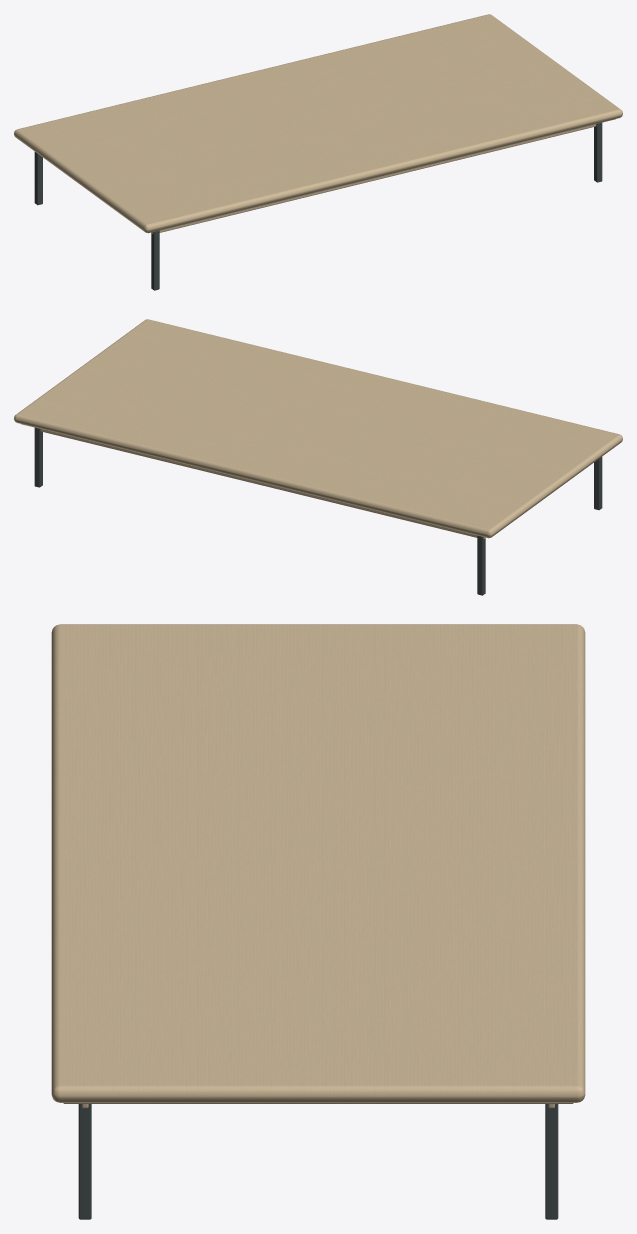
The model's file is production-table-v1.glb.
The picture shows the model from 3 angles, top to bottom: view 1: azimuth 30°, elevation 25°; view 2: azimuth 150°, elevation 25°; view 3: azimuth 270°, elevation 25°; orthographic projection. The views are drawn at different scales.
Visible parts, largest first — view 1: Pale oak continuous top; view 2: Pale oak continuous top; view 3: Pale oak continuous top.
Part boxes in pixels (<box>): Pale oak continuous top: <box>14,14,622,290</box>; Pale oak continuous top: <box>14,319,622,595</box>; Pale oak continuous top: <box>51,624,585,1219</box>.
Size of the model in its own units: 5.9 by 0.86 by 2.85.
Materials: 2 (1 with a texture image).
